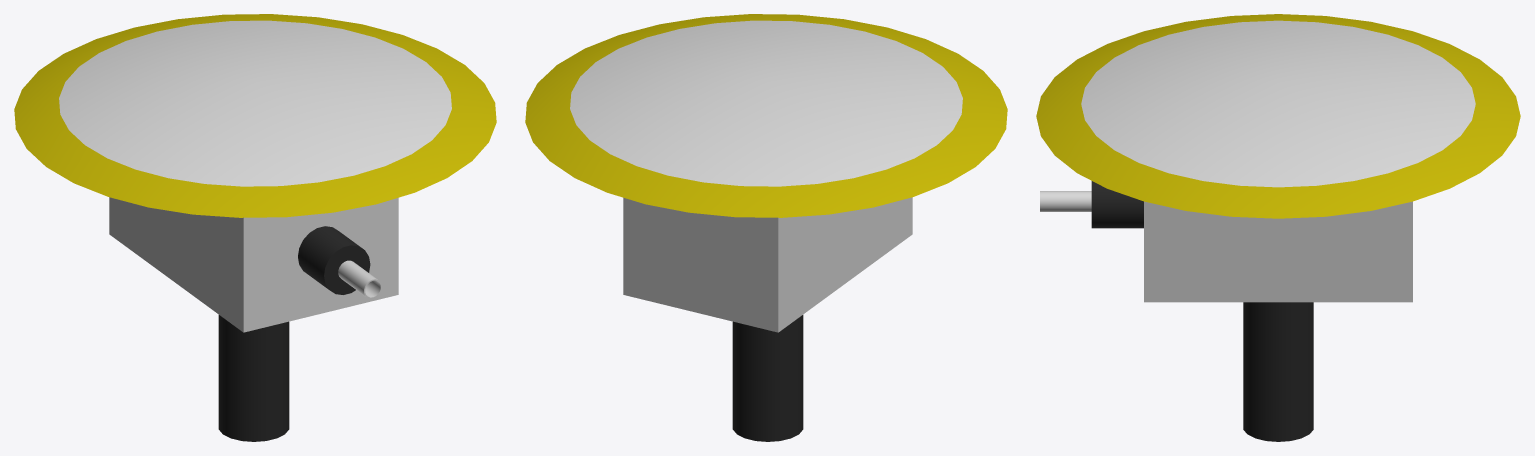
File: Torreta.FBX
The picture shows the model from 3 angles, left to right: view 1: azimuth 30°, elevation 25°; view 2: azimuth 150°, elevation 25°; view 3: azimuth 270°, elevation 25°; orthographic projection.
Parts seen in each view (by area): view 1: Torreta; view 2: Torreta; view 3: Torreta.
Part boxes in pixels (x1,y1,x2,y2): Torreta: (14, 14, 496, 441); Torreta: (525, 14, 1007, 441); Torreta: (1036, 14, 1520, 441).
Bounding box in the file's own units: 0.2701 × 0.2124 × 0.2701.
